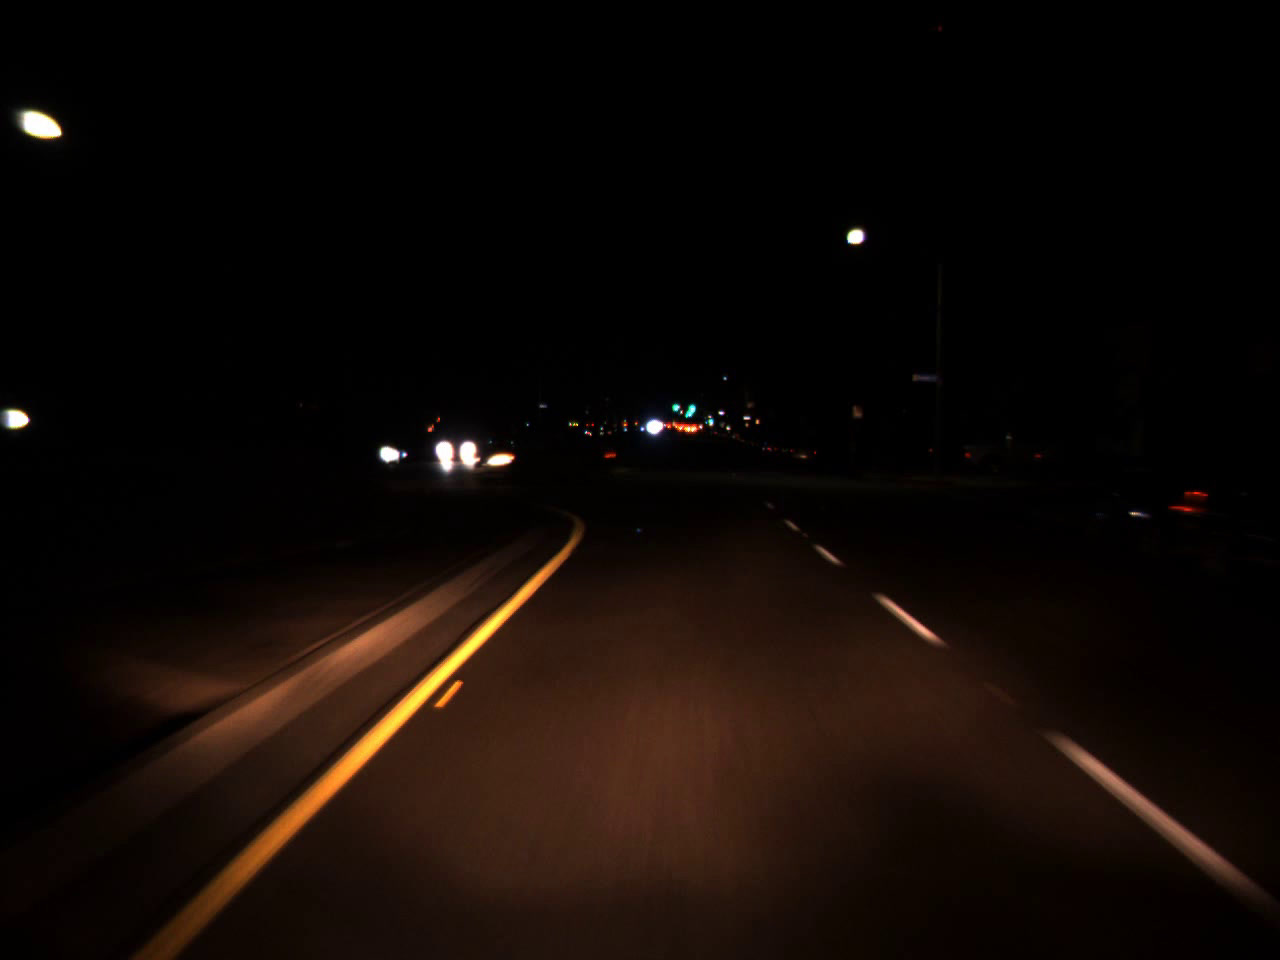go: (684, 394, 698, 418), (669, 395, 679, 413), (707, 413, 714, 425)
